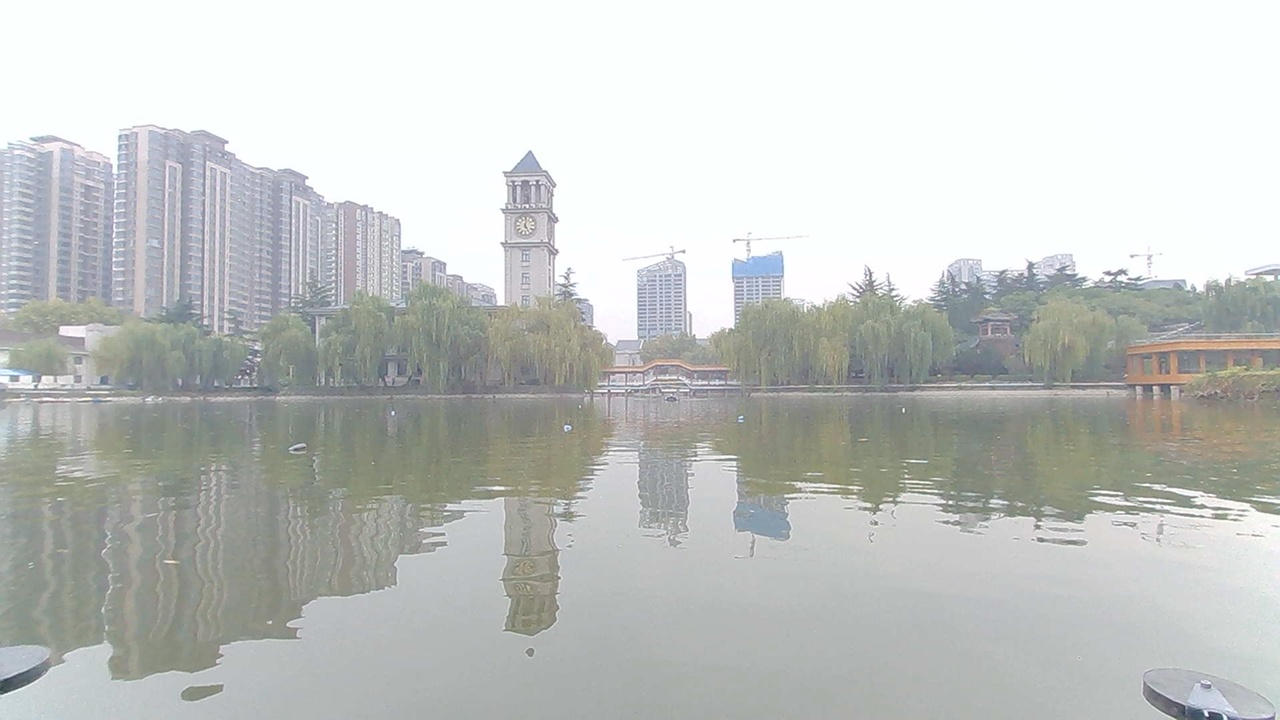bottle: (285, 432, 322, 461), (381, 397, 418, 426), (725, 408, 759, 435), (897, 400, 927, 426), (559, 424, 596, 445), (574, 396, 603, 418)
